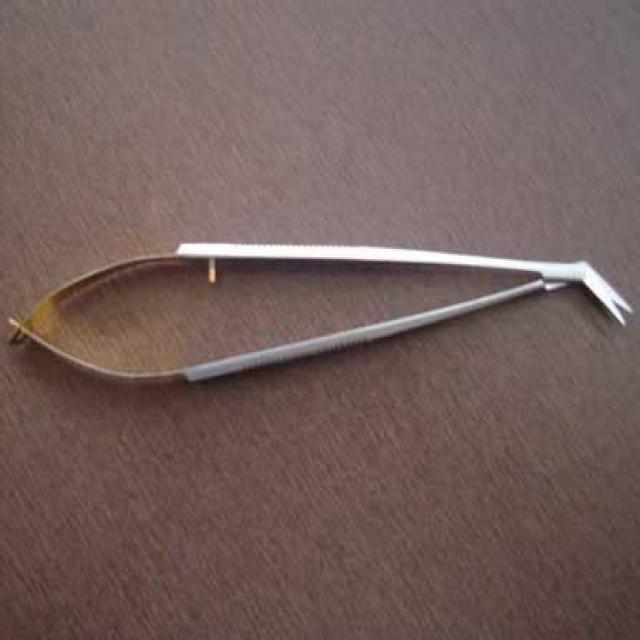Potts: (1, 237, 638, 398)
